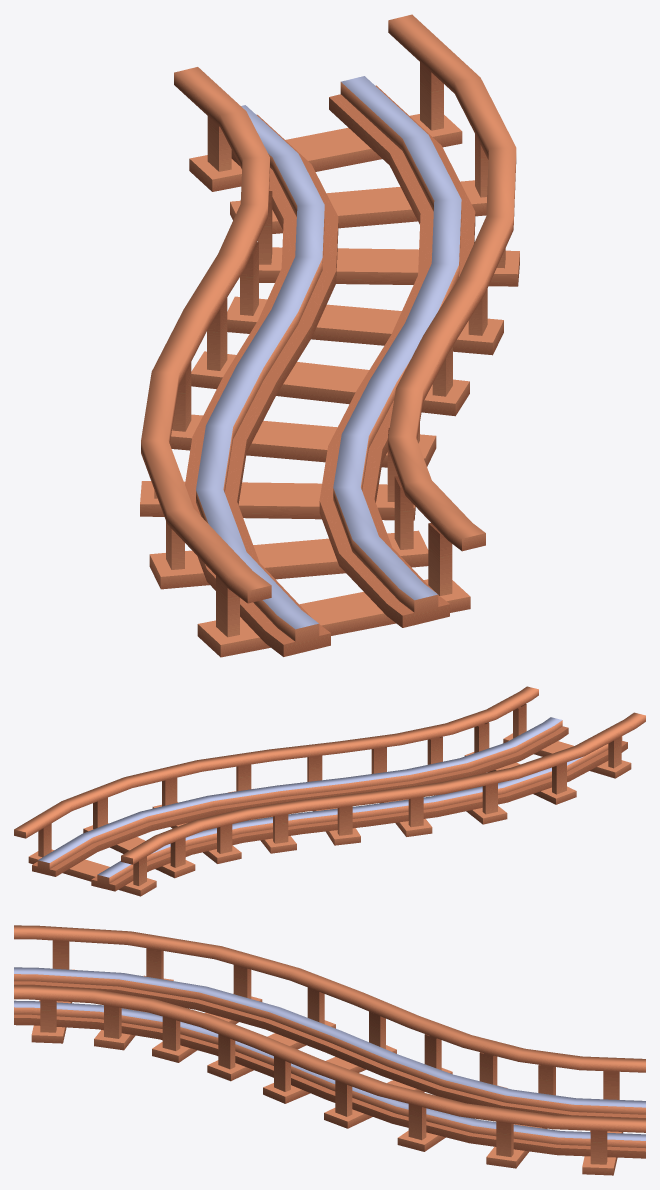
The model's file is coaster-wood-curve.glb.
3 views of the same model, one above another, from view 1: azimuth 30°, elevation 25°; view 2: azimuth 150°, elevation 25°; view 3: azimuth 270°, elevation 25° (orthographic). The views are drawn at different scales.
Visible parts, largest first — view 1: coaster-wood-curve; view 2: coaster-wood-curve; view 3: coaster-wood-curve.
Boxes of the visible parts, <box> form: coaster-wood-curve: <box>140,14,519,657</box>; coaster-wood-curve: <box>14,686,645,896</box>; coaster-wood-curve: <box>14,925,645,1175</box>.
Bounding box in the file's own units: 9 × 1.05 × 12.
1 material, 1 textured.
